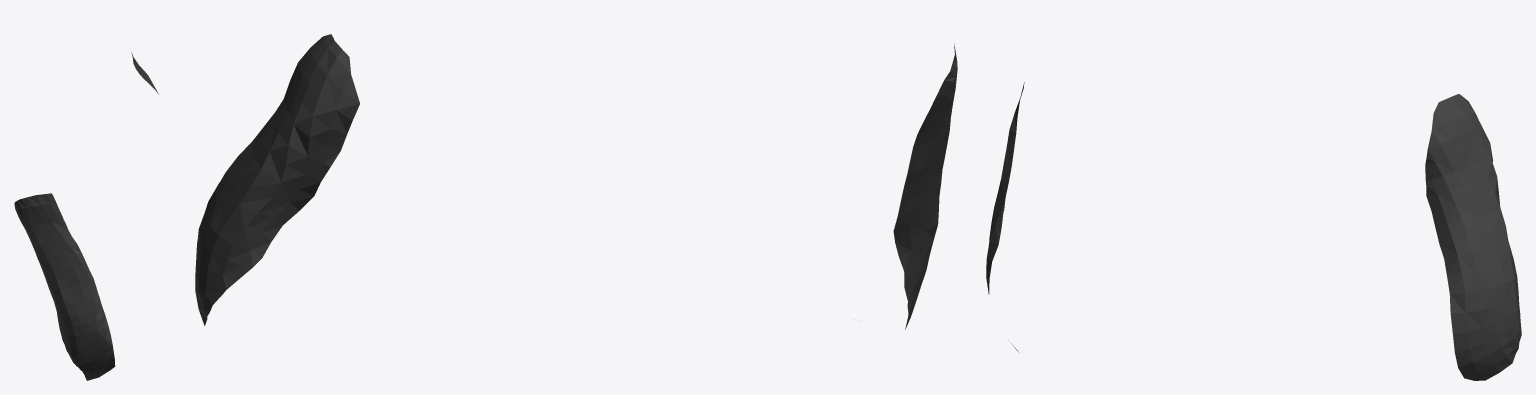
The model's file is eq_dist_limb_Collateral_Lig_Pastern.glb.
The picture shows the model from 3 angles, left to right: view 1: azimuth 30°, elevation 25°; view 2: azimuth 150°, elevation 25°; view 3: azimuth 270°, elevation 25°; orthographic projection. The views are drawn at different scales.
Visible parts, largest first — view 1: eq_dist_limb_Collateral_Lig_Pastern; view 2: eq_dist_limb_Collateral_Lig_Pastern; view 3: eq_dist_limb_Collateral_Lig_Pastern.
Boxes of the visible parts, <box> form: eq_dist_limb_Collateral_Lig_Pastern: <box>14,52,158,380</box>; eq_dist_limb_Collateral_Lig_Pastern: <box>195,34,957,329</box>; eq_dist_limb_Collateral_Lig_Pastern: <box>986,82,1521,380</box>.
Bounding box in the file's own units: 0.00692 × 0.0058 × 0.00755.
1 material, 1 textured.
